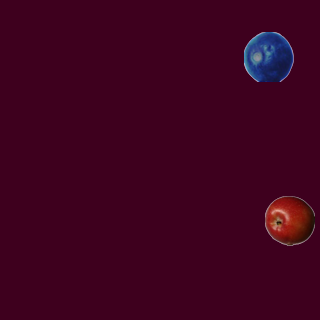Apple Braeburn: (264, 195, 314, 245)
Huckleberry: (243, 31, 293, 81)
